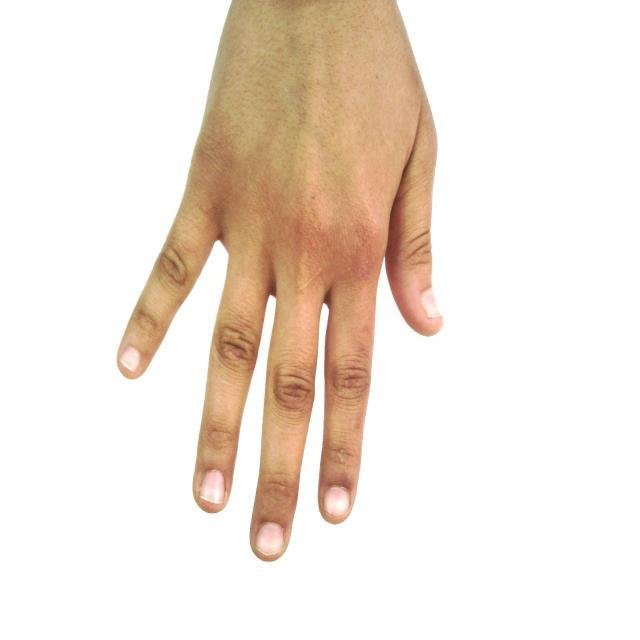Fingernail: (254, 523, 284, 557), (200, 470, 225, 504), (324, 486, 348, 516), (422, 289, 440, 317), (120, 347, 139, 373)
